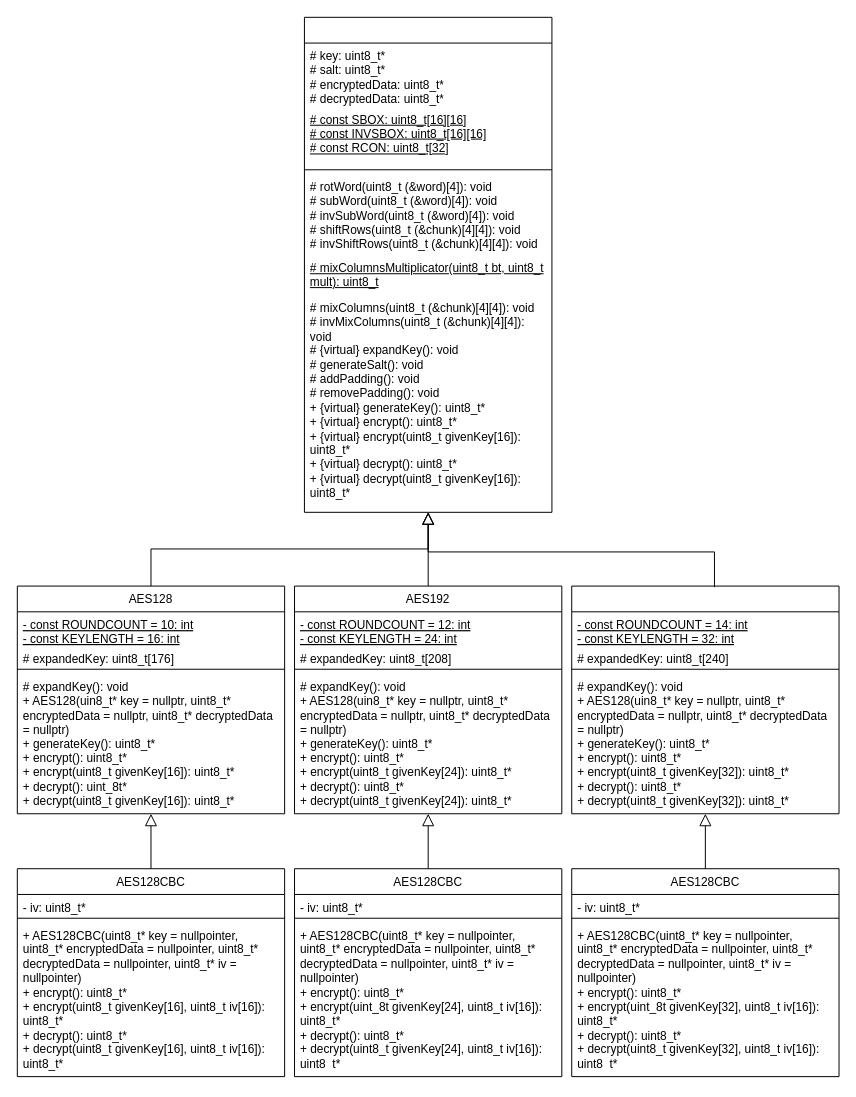
Some shapes in this 856 by 1097 pixel diagram are drawn without their labels. Each missing label, with the box of its shape:
AES: (303, 16, 552, 512)
AES256: (571, 585, 839, 814)
